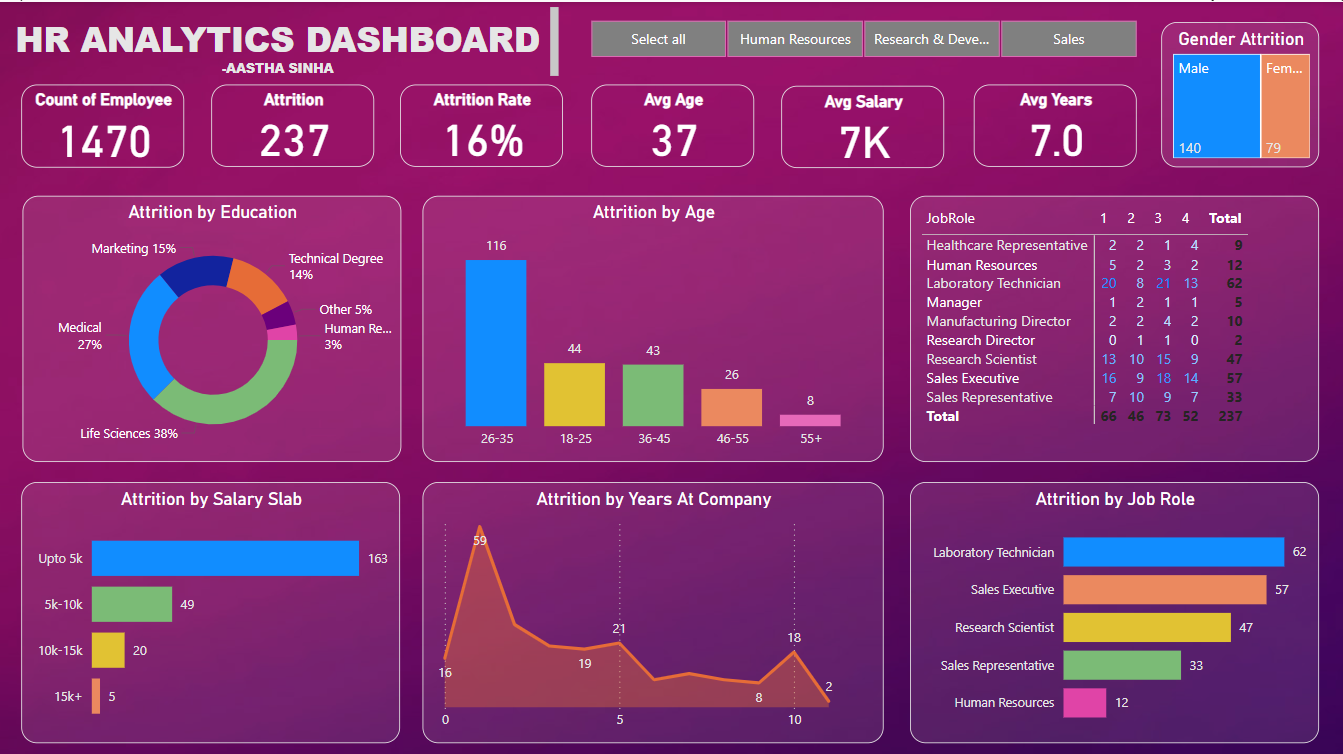

The dashboard page shown, as its layout file describes it:
{"tool":"powerbi","page":{"name":"Page 1","canvas":[1280,720],"ordinal":0},"visuals":[{"type":"card","title":"Count of Employee ","fields":{"Values":["CountNonNull(HR_Analytics.EmpID)"]},"box":[20.5,78.4,155.6,79.6],"z":0},{"type":"card","title":"Attrition","fields":{"Values":["Sum(HR_Analytics.AttritionCount)"]},"box":[201.4,78.4,155.6,78.4],"z":1000},{"type":"card","title":"Attrition Rate","fields":{"Values":["HR_Analytics.AttritonRate"]},"box":[381.1,78.4,155.6,78.4],"z":2000},{"type":"card","title":"Avg Age","fields":{"Values":["Avg(HR_Analytics.Age)"]},"box":[563.2,78.4,155.6,78.4],"z":3000},{"type":"card","title":"Avg Salary","fields":{"Values":["Avg(HR_Analytics.MonthlyIncome)"]},"box":[744.1,79.6,155.6,78.4],"z":4000},{"type":"card","title":"Avg Years","fields":{"Values":["Avg(HR_Analytics.YearsAtCompany)"]},"box":[927.4,78.4,155.6,78.4],"z":5000},{"type":"donutChart","title":" Attrition by Education","fields":{"Category":["HR_Analytics.EducationField"],"Y":["Sum(HR_Analytics.AttritionCount)"]},"box":[21.7,184.5,360.6,253.3],"z":6000},{"type":"columnChart","title":" Attrition by Age","fields":{"Category":["HR_Analytics.AgeGroup"],"Y":["Sum(HR_Analytics.AttritionCount)"]},"box":[402.8,184.5,439,253.3],"z":7000},{"type":"pivotTable","fields":{"Rows":["HR_Analytics.JobRole"],"Columns":["HR_Analytics.JobSatisfaction"],"Values":["Sum(HR_Analytics.AttritionCount)"]},"box":[867.1,184.5,389.5,253.3],"z":8000},{"type":"barChart","title":" Attrition by Salary Slab","fields":{"Category":["HR_Analytics.SalarySlab"],"Y":["Sum(HR_Analytics.AttritionCount)"]},"box":[20.5,457.1,360.6,248.4],"z":9000},{"type":"barChart","title":" Attrition by Job Role","fields":{"Y":["Sum(HR_Analytics.AttritionCount)"],"Category":["HR_Analytics.JobRole"]},"box":[867.1,457.1,389.5,248.4],"z":10000},{"type":"areaChart","title":" Attrition by Years At Company","fields":{"Category":["HR_Analytics.YearsAtCompany"],"Y":["Sum(HR_Analytics.AttritionCount)"]},"box":[402.8,457.1,439,248.4],"z":11000},{"type":"treemap","title":"Gender Attrition  ","fields":{"Group":["HR_Analytics.Gender"],"Values":["Sum(HR_Analytics.AttritionCount)"]},"box":[1105.9,19.3,150.8,138.7],"z":12000},{"type":"slicer","fields":{"Values":["HR_Analytics.Department"]},"box":[536.7,10.9,569.2,48.2],"z":13000},{"type":"textbox","box":[0,0,536.7,76],"z":14000}]}

Visuals, with their boxes in screenshot pixels (x1, y1, x2, y2), scaled from the page's 1280x720 canvas onto the 1343x754 screenshot:
"Count of Employee " card: 22/82/185/165
"Attrition" card: 211/82/375/164
"Attrition Rate" card: 400/82/563/164
"Avg Age" card: 591/82/754/164
"Avg Salary" card: 781/83/944/165
"Avg Years" card: 973/82/1136/164
" Attrition by Education" donutChart: 23/193/401/458
" Attrition by Age" columnChart: 423/193/883/458
pivotTable - HR_Analytics.JobRole x HR_Analytics.JobSatisfaction: 910/193/1318/458
" Attrition by Salary Slab" barChart: 22/479/400/739
" Attrition by Job Role" barChart: 910/479/1318/739
" Attrition by Years At Company" areaChart: 423/479/883/739
"Gender Attrition  " treemap: 1160/20/1319/165
slicer - HR_Analytics.Department: 563/11/1160/62
textbox: 0/0/563/80
